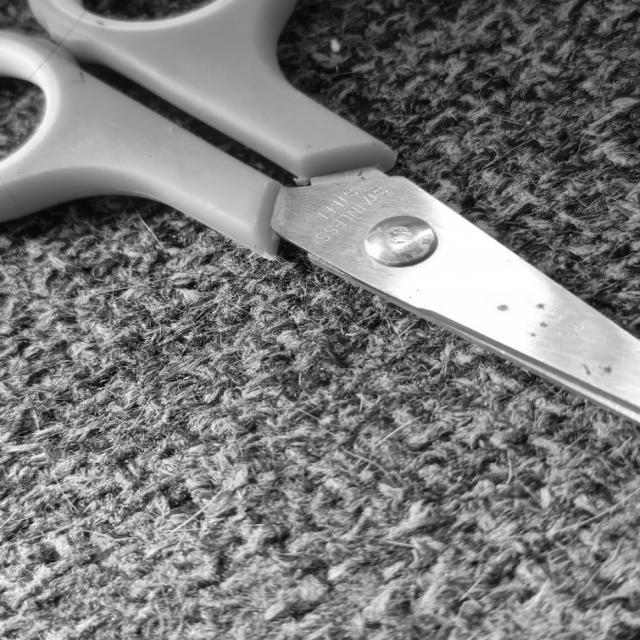tesoura: (0, 0, 639, 424)
